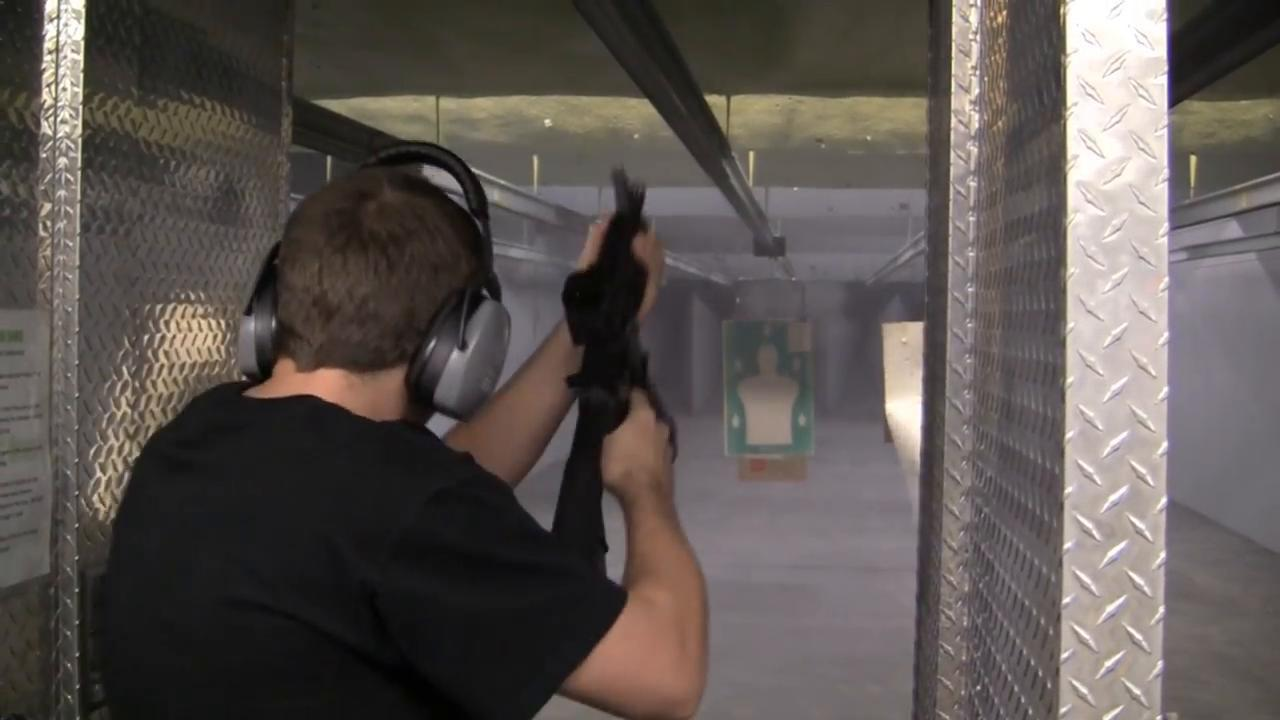M4 Rifle: (549, 163, 677, 585)
